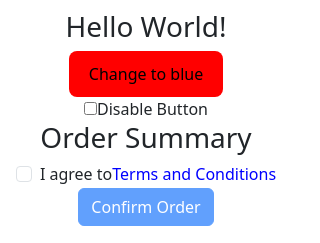
Test: checkbox flow
The image size is (320, 243).
Expected: the button "Change to blue" is enabled, [69, 51, 223, 97]
// Click checkBox to disable button
Click the checkbox labelled "Disable Button".
click(90, 108)  # box [84, 102, 97, 115]
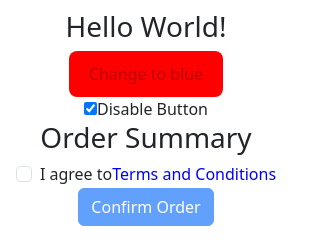
Expected: the button "Change to blue" is disabled, [69, 51, 223, 97]
// click checkBox again to re-enable button
Click the checkbox labelled "Disable Button".
click(90, 108)  # box [84, 102, 97, 115]
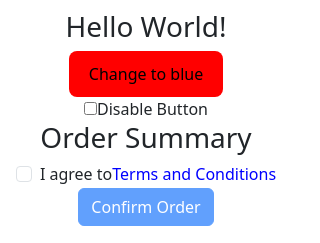
Expected: the button "Change to blue" is enabled, [69, 51, 223, 97]
